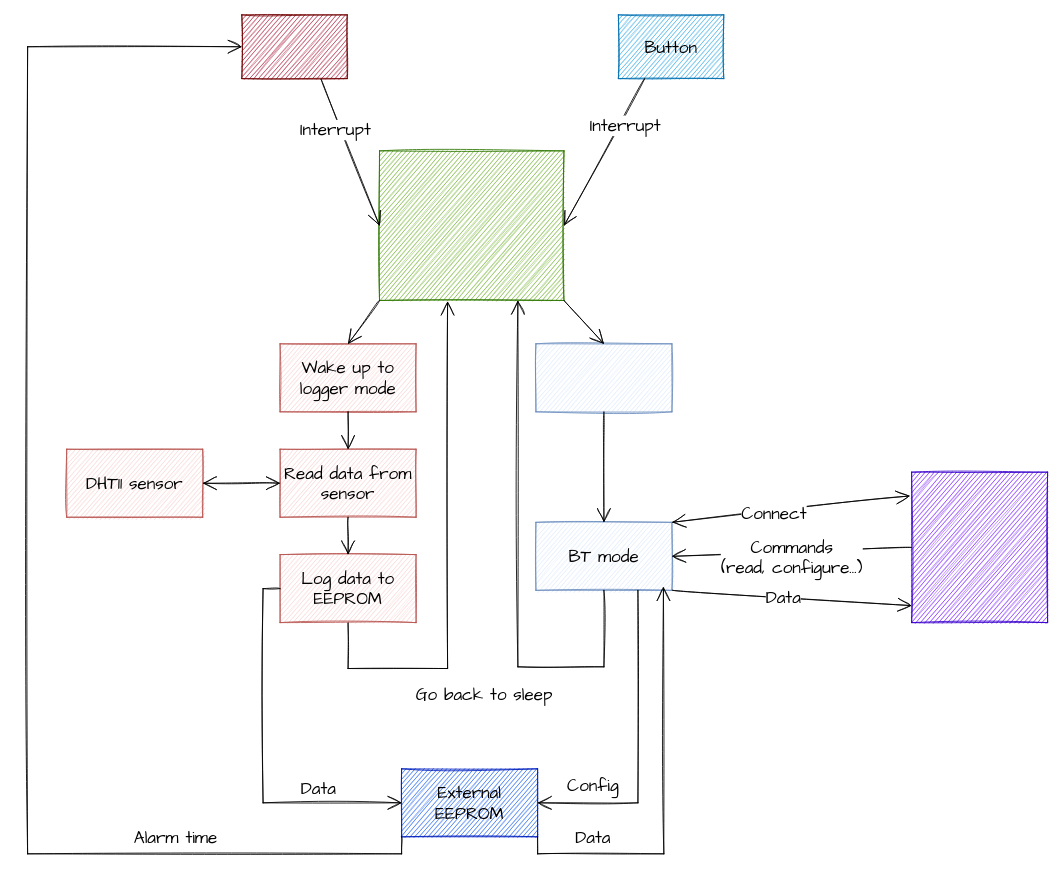
Some shapes in this 1063 by 882 pixel diagram are drawn without their labels. The centre of each missing label's shape, as x and y in pixels:
Esp 32 in deep sleep: pixel 471 225
External RTC: pixel 294 46
Mobile phone: pixel 979 547
Wake up to bluetooth mode: pixel 603 377
